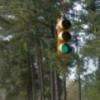traffic lights: (56, 16, 72, 60)
